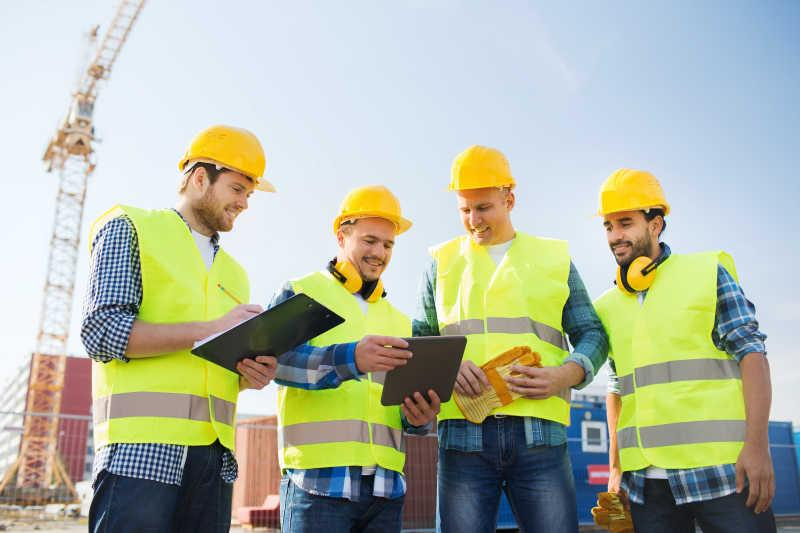helmet: (182, 124, 276, 196), (334, 184, 412, 235), (596, 165, 669, 216), (448, 145, 513, 191)
